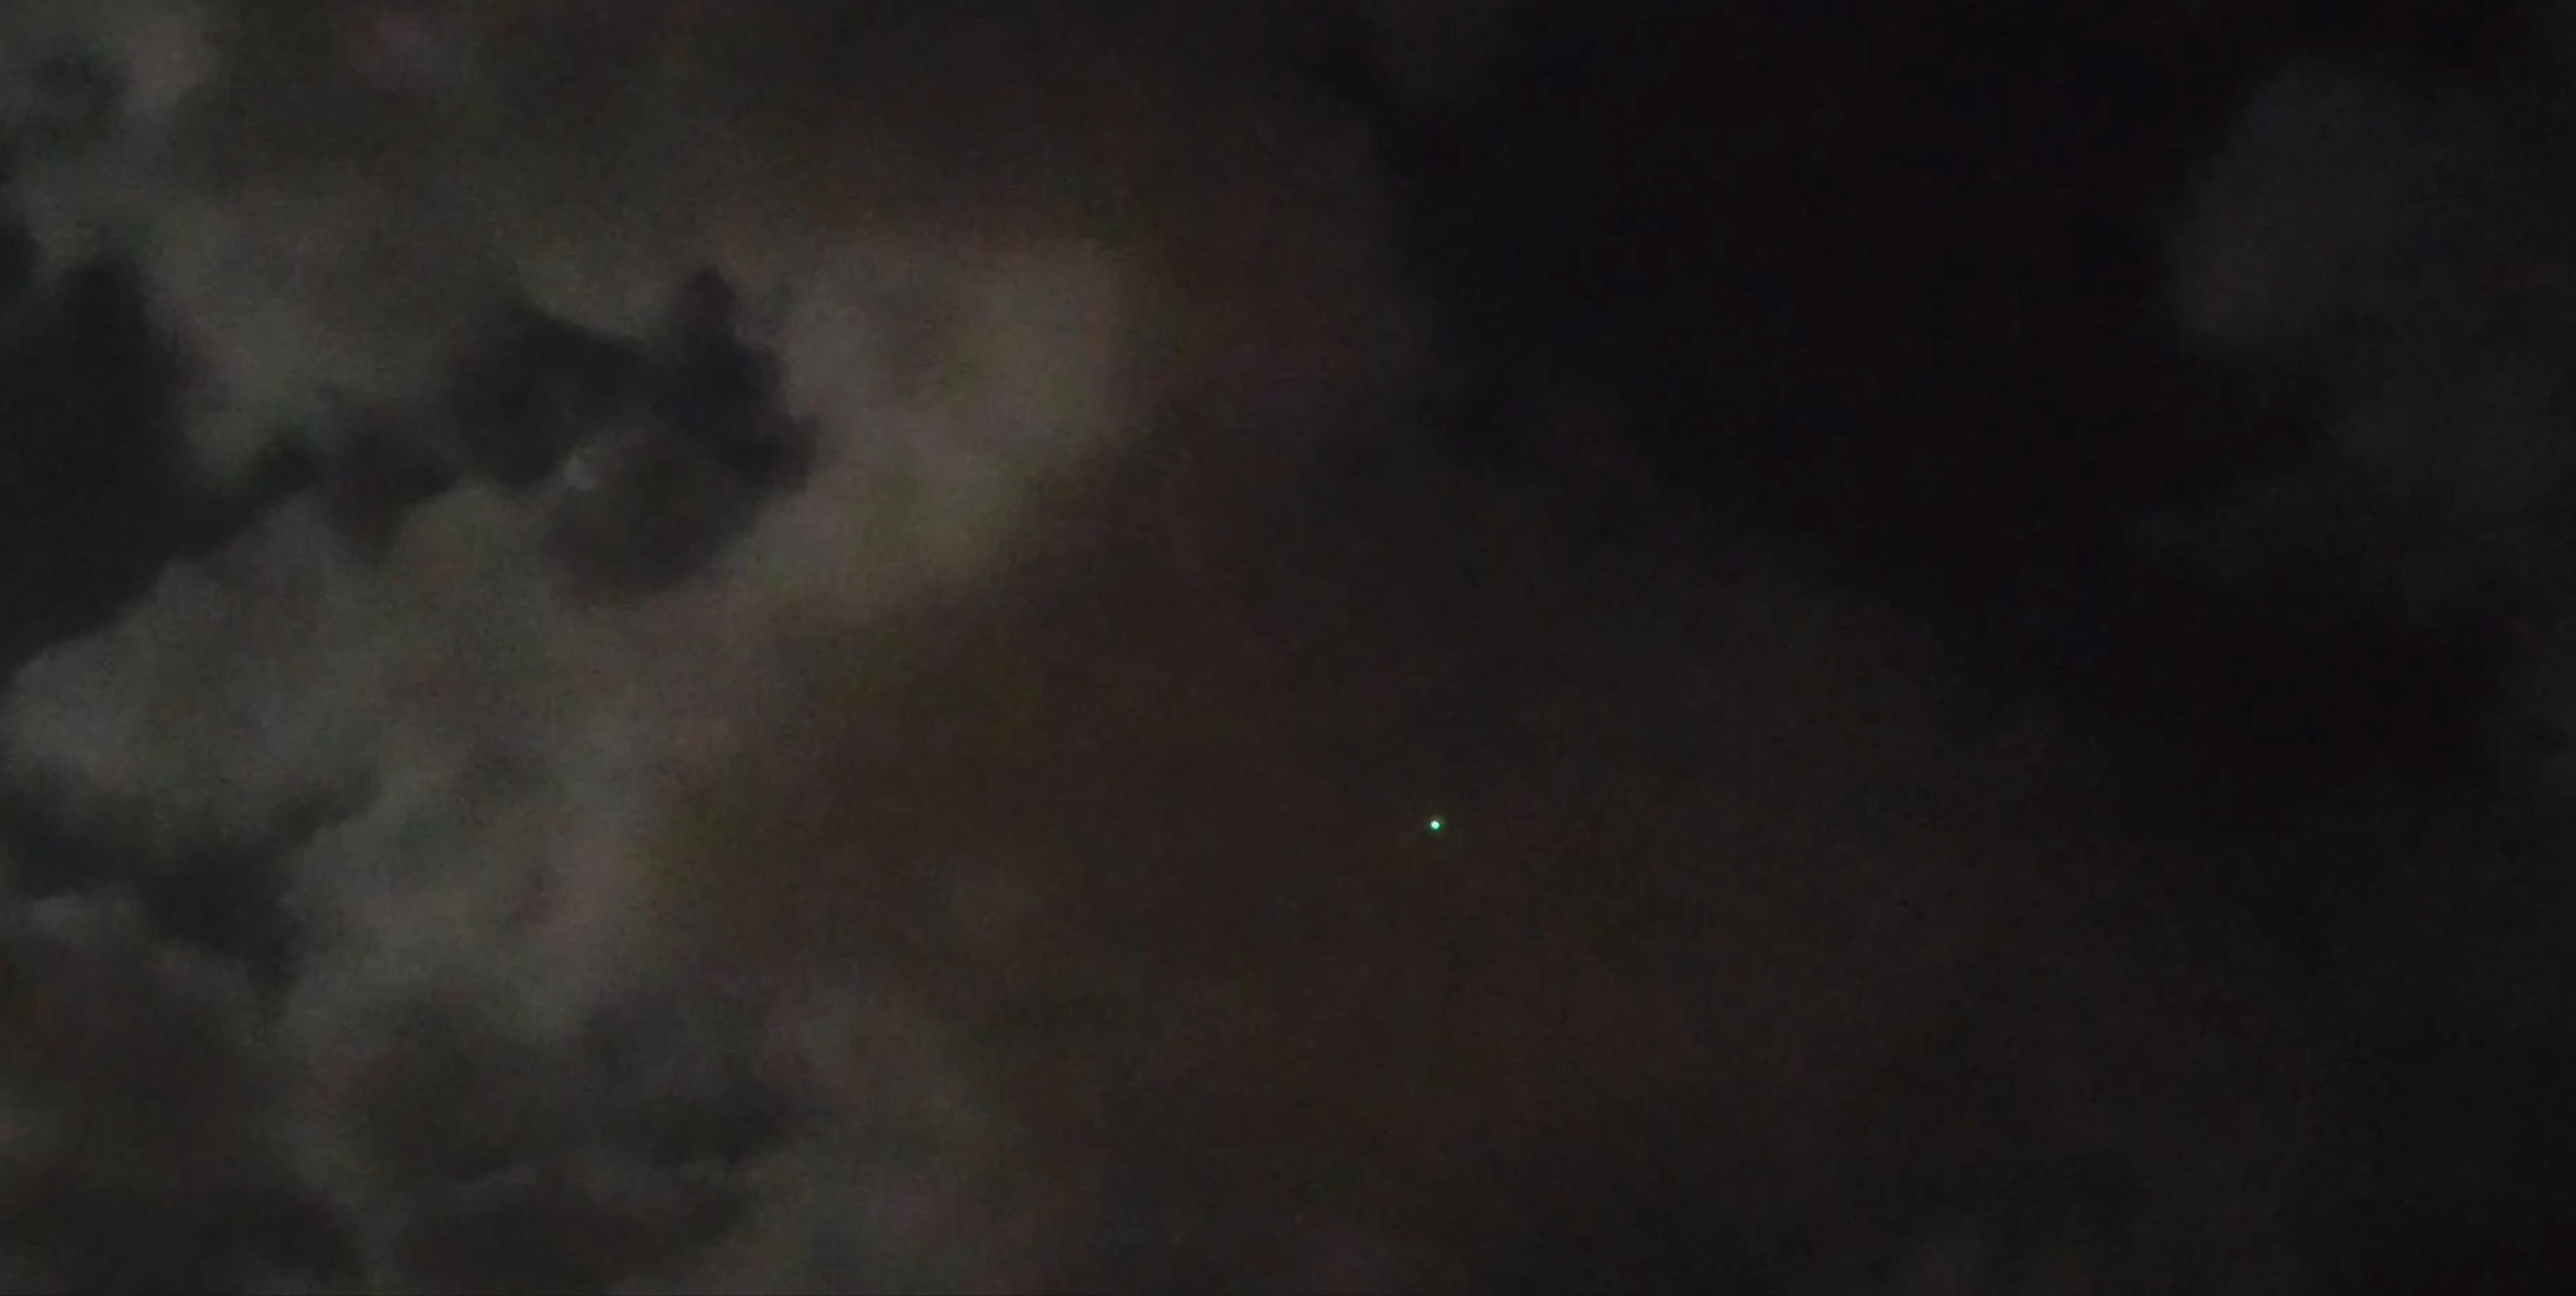Plane: (1414, 797, 1462, 853)
